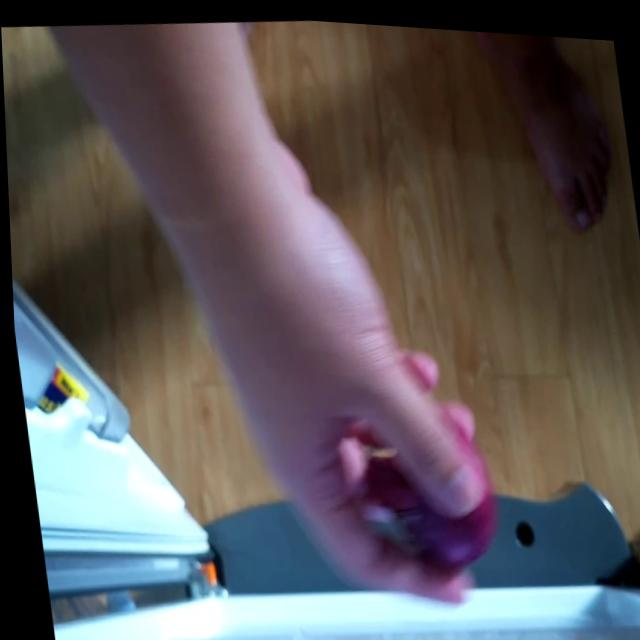onion: (377, 398, 495, 576)
